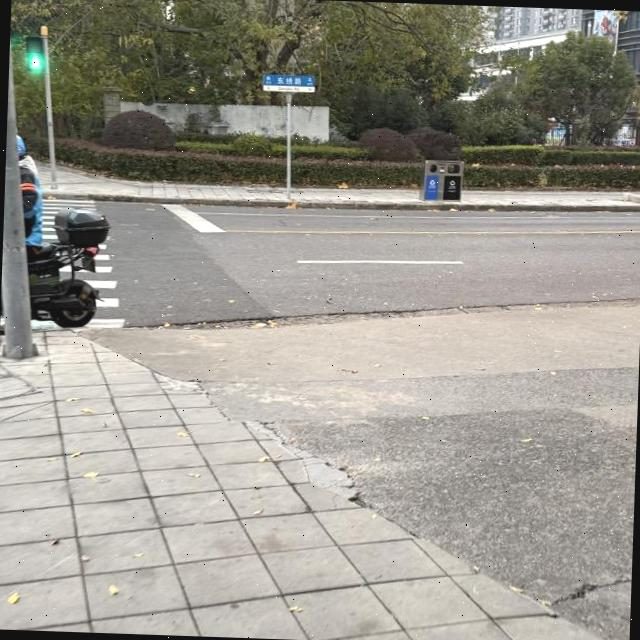curb: (128, 300, 640, 328), (290, 200, 640, 212), (55, 193, 290, 208)
